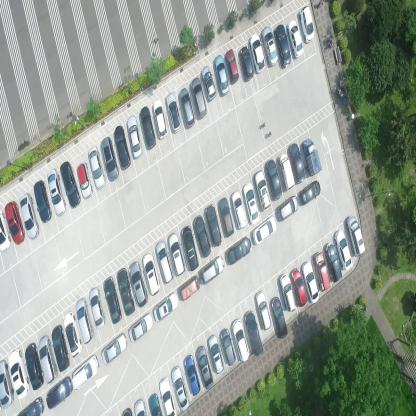car: (7, 346, 30, 398), (59, 161, 81, 209), (71, 352, 98, 390), (38, 335, 58, 384), (62, 312, 83, 358), (102, 330, 128, 367), (46, 169, 66, 217), (102, 276, 122, 324), (74, 297, 94, 345), (344, 215, 366, 258), (4, 200, 25, 245), (25, 344, 45, 391), (100, 135, 119, 184), (243, 310, 263, 356), (230, 316, 250, 362), (180, 224, 199, 272), (116, 267, 135, 315), (51, 324, 70, 372), (19, 194, 39, 239), (194, 345, 214, 390), (170, 365, 190, 410), (141, 249, 160, 296), (128, 260, 147, 307), (153, 290, 179, 324), (46, 376, 72, 410), (300, 260, 320, 304), (87, 146, 106, 191), (312, 251, 333, 291), (252, 214, 278, 246), (114, 125, 132, 171), (168, 232, 186, 278), (333, 229, 353, 270), (324, 241, 343, 284), (128, 310, 152, 344), (204, 203, 222, 248), (155, 240, 173, 285), (302, 137, 322, 177), (158, 376, 178, 416), (193, 213, 211, 257), (88, 286, 106, 330), (270, 295, 288, 339), (183, 353, 201, 397), (253, 170, 272, 211), (226, 235, 251, 266), (33, 180, 51, 223), (265, 158, 283, 201), (254, 289, 272, 332), (200, 253, 224, 285), (278, 272, 297, 312), (248, 32, 266, 74), (164, 92, 181, 136), (289, 268, 308, 307), (286, 18, 304, 59), (261, 25, 279, 66), (274, 23, 290, 69), (242, 182, 259, 225), (140, 105, 156, 150), (0, 359, 15, 407), (178, 87, 195, 129), (288, 142, 305, 184), (277, 151, 294, 193), (213, 53, 229, 97), (190, 76, 206, 120), (230, 190, 248, 228), (299, 179, 322, 208), (76, 161, 93, 200), (127, 115, 142, 159), (218, 196, 234, 237), (208, 333, 224, 374), (276, 194, 299, 222), (152, 100, 168, 140), (179, 273, 200, 302), (200, 64, 216, 102), (220, 329, 236, 367), (299, 6, 315, 43), (240, 45, 254, 83), (224, 48, 238, 86), (0, 209, 12, 251), (18, 396, 44, 415), (148, 393, 164, 415), (132, 397, 148, 415)
